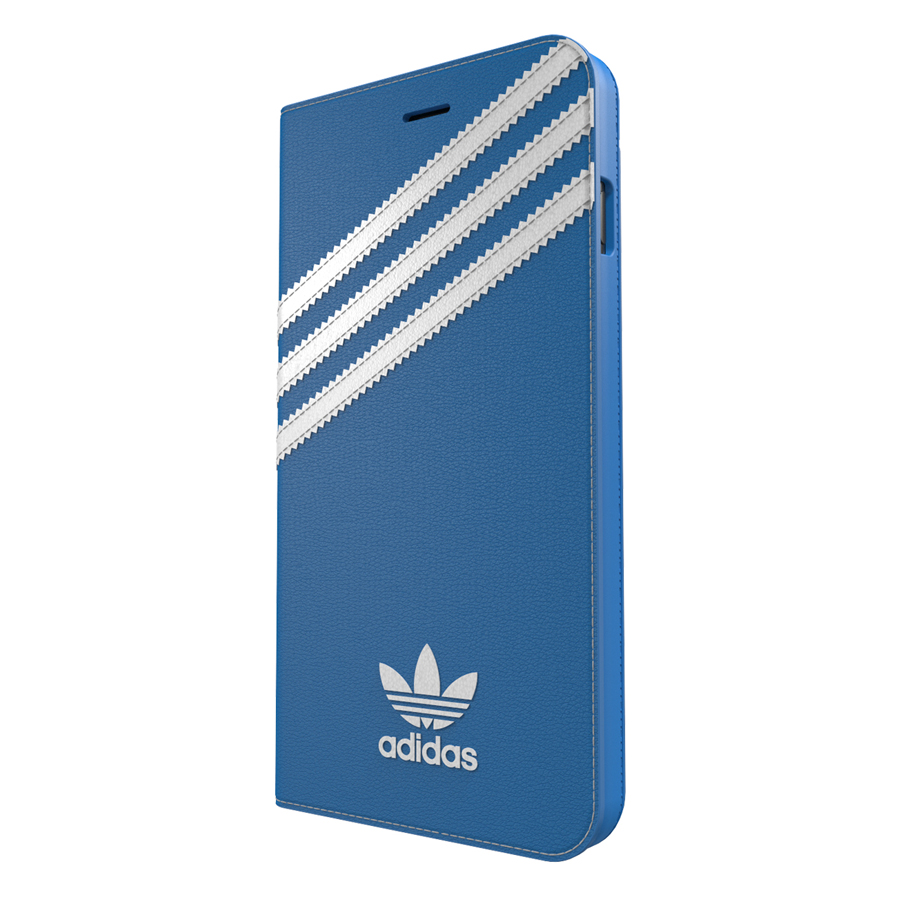Adidas: (365, 635, 494, 777)
